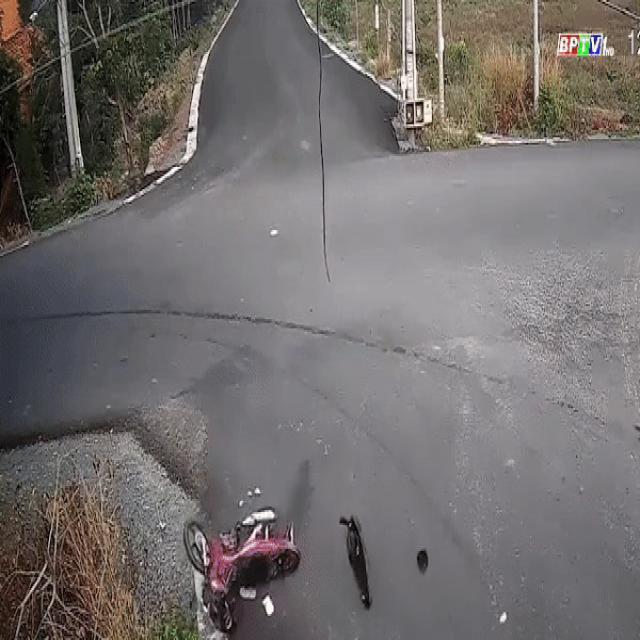multiple_accident: (173, 470, 376, 640)
